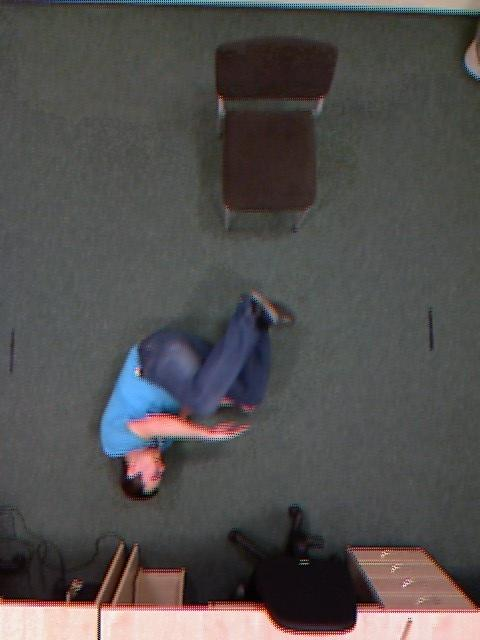fall: (103, 259, 285, 526)
